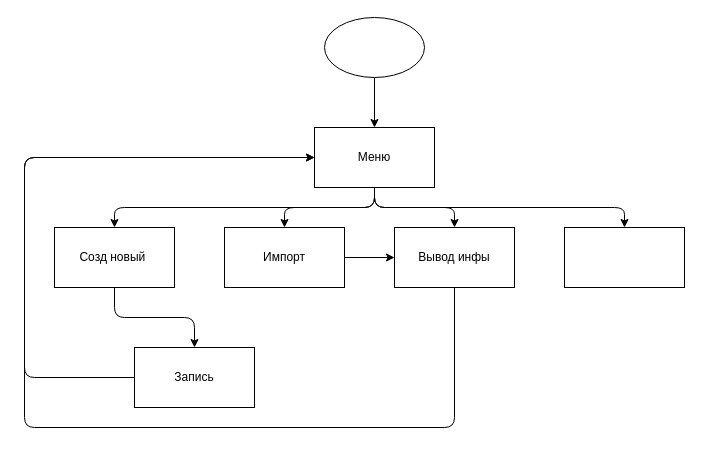
The diagram is 702 pixels wide and 453 high, and some of its shapes have lost their labels. The shapes that lost their labels are listed below. From the top down, each one's centre as x and y in pixels, then its label:
At [374,47]: "START".
At [624,257]: "Выход".
